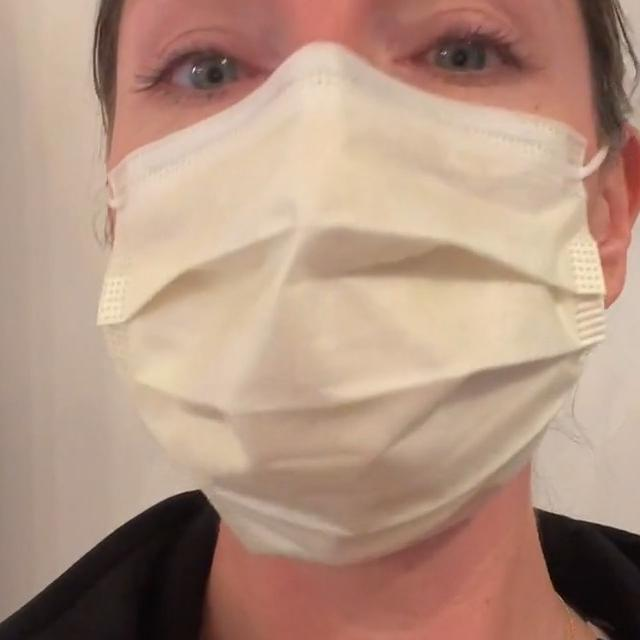Mask: (96, 88, 604, 564)
Person: (0, 0, 640, 640)
